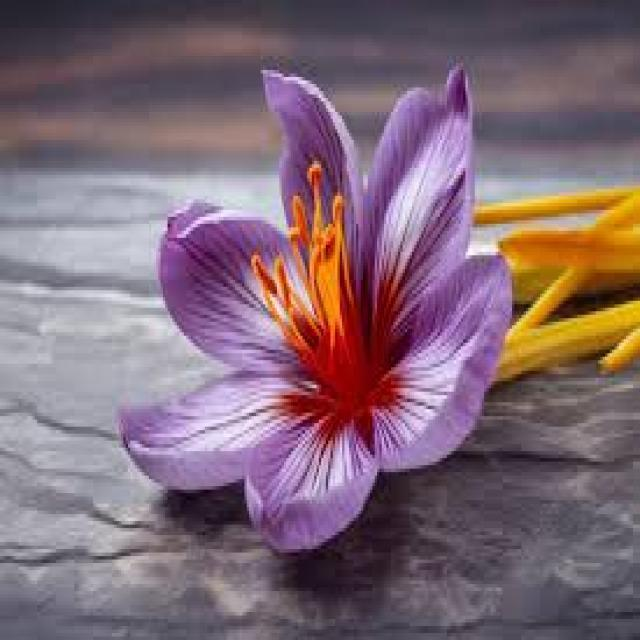Flower: (90, 62, 508, 582)
